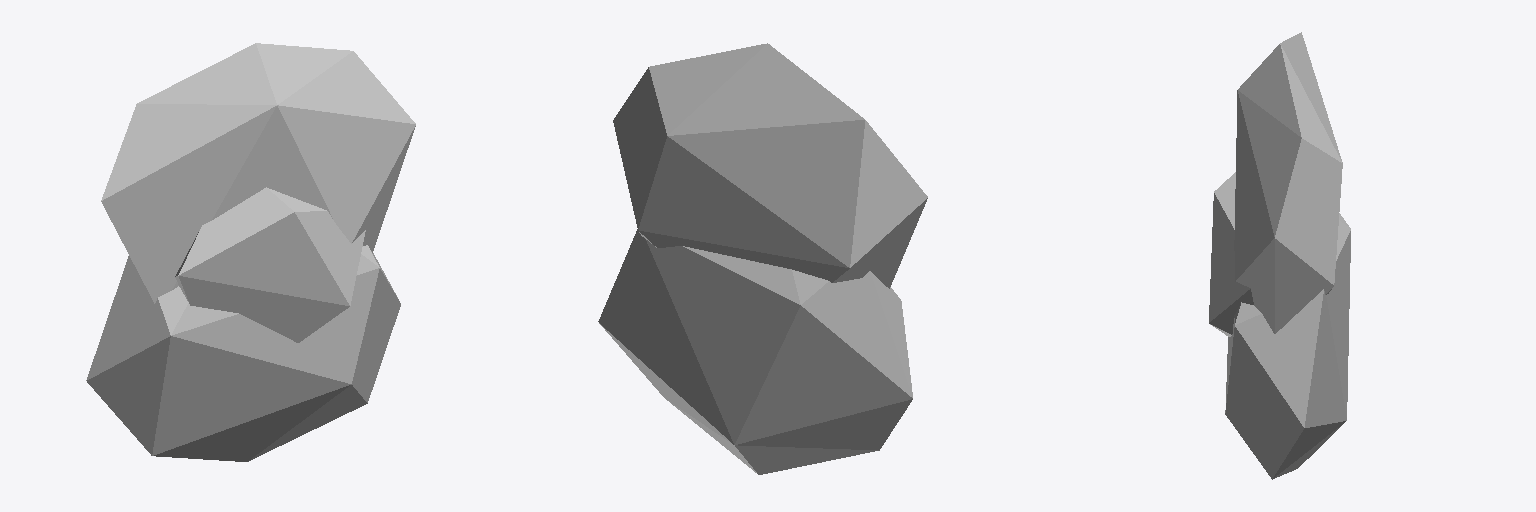
The model's file is cloud.obj.
3 renders of one model, left to right at view 1: azimuth 30°, elevation 25°; view 2: azimuth 150°, elevation 25°; view 3: azimuth 270°, elevation 25°, orthographic.
Parts seen in each view (by area): view 1: Icosphere.002; view 2: Icosphere.002; view 3: Icosphere.002.
Part boxes in pixels (left/top/right/bottom): Icosphere.002: left=86, top=43, right=415, bottom=461; Icosphere.002: left=598, top=43, right=927, bottom=474; Icosphere.002: left=1209, top=32, right=1350, bottom=479.
Size of the model in its own units: 8.93 by 11.51 by 3.49.